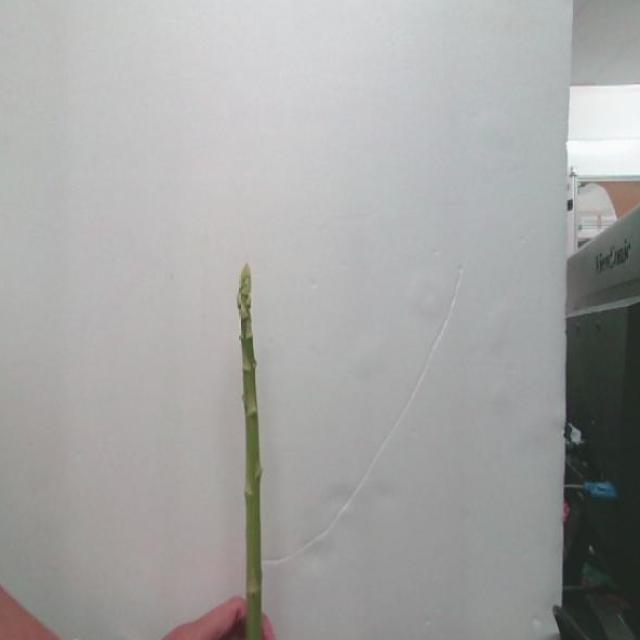aspargus: (239, 266, 263, 640)
